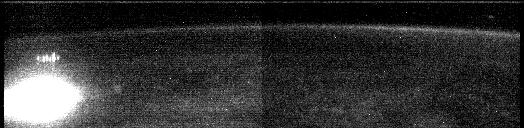positive: (31, 52, 63, 68)
